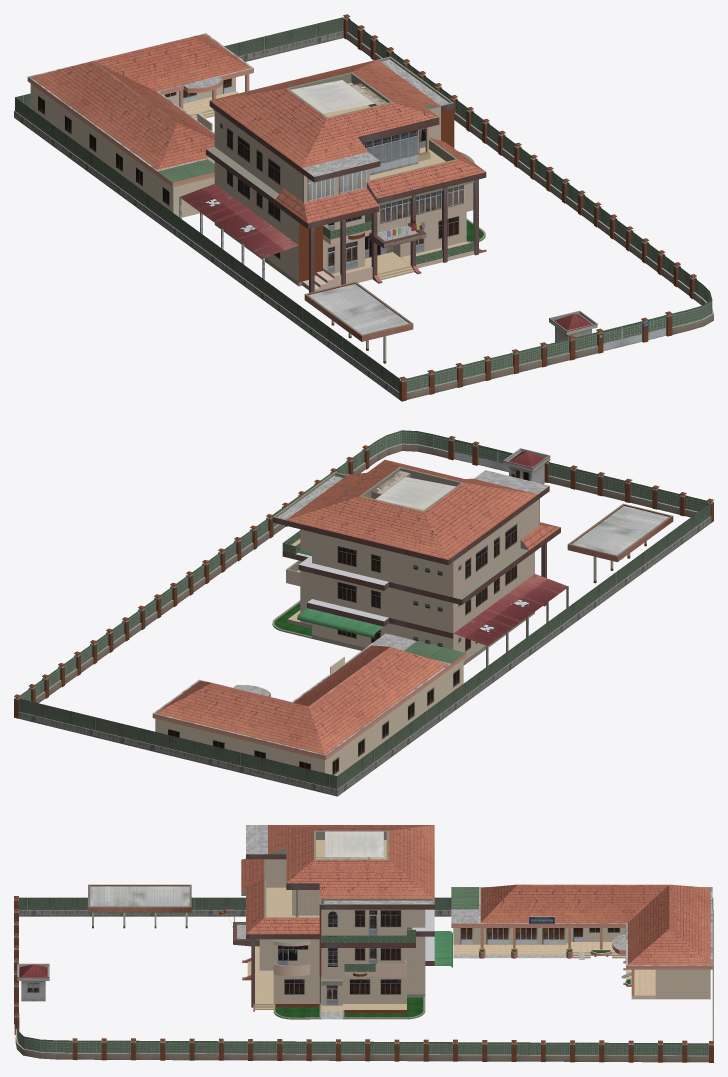
The model's file is Soxaydung.glb.
3 views of the same model, one above another, from view 1: azimuth 30°, elevation 25°; view 2: azimuth 150°, elevation 25°; view 3: azimuth 270°, elevation 25° (orthographic). The views are drawn at different scales.
Parts seen in each view (by area): view 1: 3_Soxaydung, 1_hangrao_nhabaove_nhaxe, 3_Chicucgiamdinh; view 2: 3_Soxaydung, 1_hangrao_nhabaove_nhaxe, 3_Chicucgiamdinh; view 3: 3_Soxaydung, 3_Chicucgiamdinh, 1_hangrao_nhabaove_nhaxe.
Part boxes in pixels (x1=…): 3_Soxaydung: x1=179, y1=56, x2=486, y2=292; 1_hangrao_nhabaove_nhaxe: x1=14, y1=14, x2=713, y2=401; 3_Chicucgiamdinh: x1=27, y1=33, x2=253, y2=217; 3_Soxaydung: x1=272, y1=459, x2=568, y2=666; 1_hangrao_nhabaove_nhaxe: x1=14, y1=430, x2=713, y2=796; 3_Chicucgiamdinh: x1=152, y1=633, x2=466, y2=775; 3_Soxaydung: x1=219, y1=825, x2=452, y2=1019; 3_Chicucgiamdinh: x1=451, y1=884, x2=712, y2=999; 1_hangrao_nhabaove_nhaxe: x1=14, y1=884, x2=713, y2=1062.
Size of the model in its own units: 37.78 by 15.05 by 76.1.
3 materials, 3 textured.
